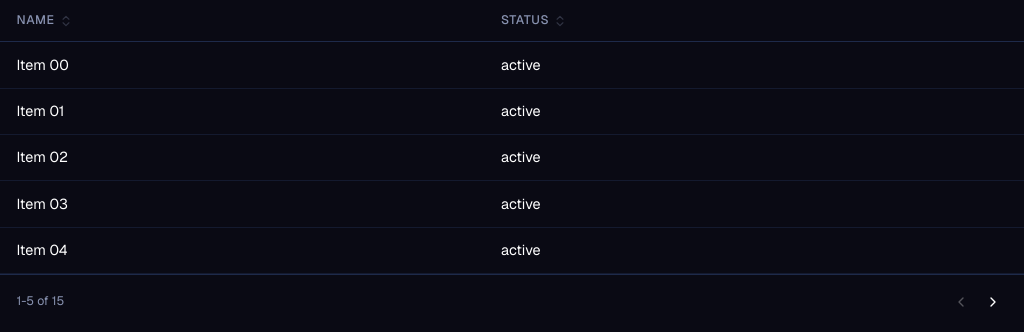
Test: DataTable › paginates data correctly
Expected: the text "Item 00" is shown, [0,42,484,88]
Expected: the text "Item 04" is shown, [0,227,484,274]
// Navigate to next page
Click the button named "Next page". click: (993,302)
box: [979,288,1008,316]
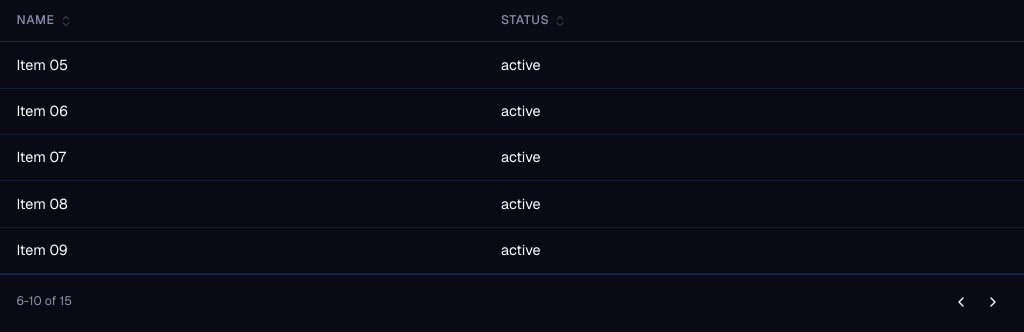
Now the text "Item 05" is shown, box [0,42,484,88]
Now the text "6-10 of 15" is shown, box [16,293,72,310]
